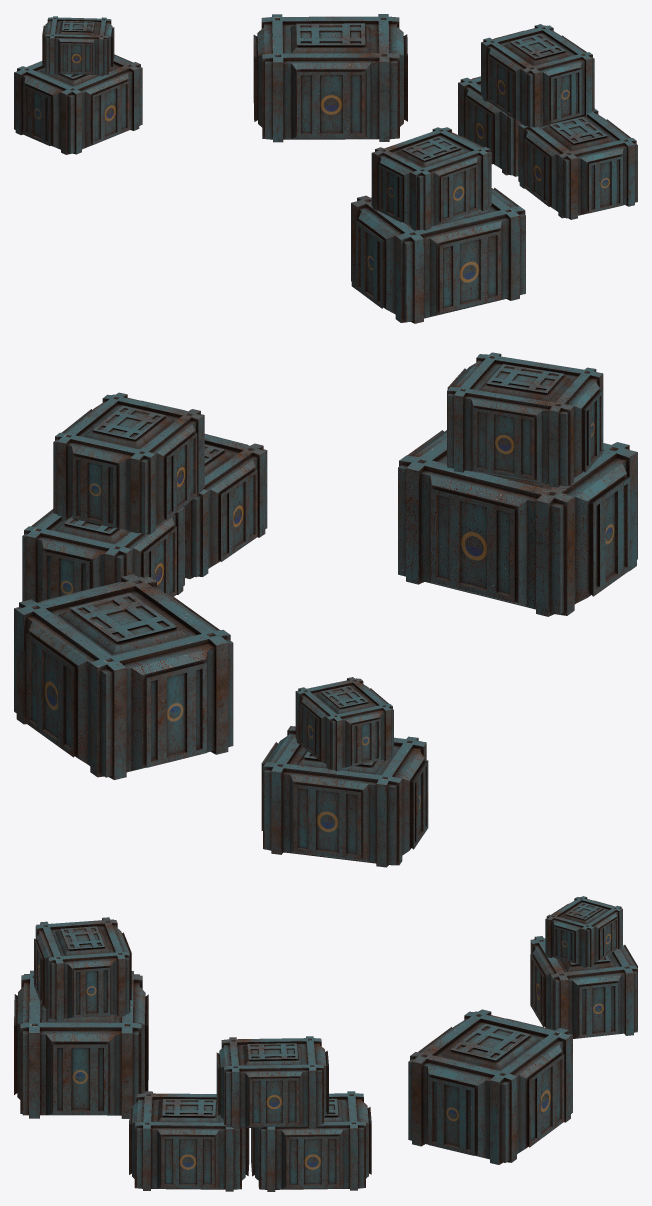
File: Cargo.fbx
3 renders of one model, top to bottom at view 1: azimuth 30°, elevation 25°; view 2: azimuth 150°, elevation 25°; view 3: azimuth 270°, elevation 25°, orthographic. The views are drawn at different scales.
Parts seen in each view (by area): view 1: Cube.100; view 2: Cube.100; view 3: Cube.100.
Part boxes in pixels (x1=…): Cube.100: x1=14, y1=14, x2=637, y2=323; Cube.100: x1=14, y1=352, x2=637, y2=867; Cube.100: x1=14, y1=896, x2=637, y2=1191.
Bounding box in the file's own units: 930 × 322 × 1208.
